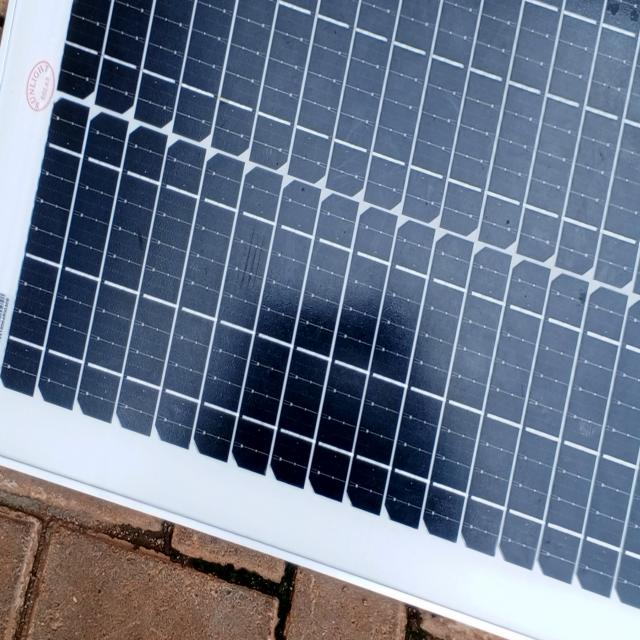Clean: (74, 4, 637, 490)
